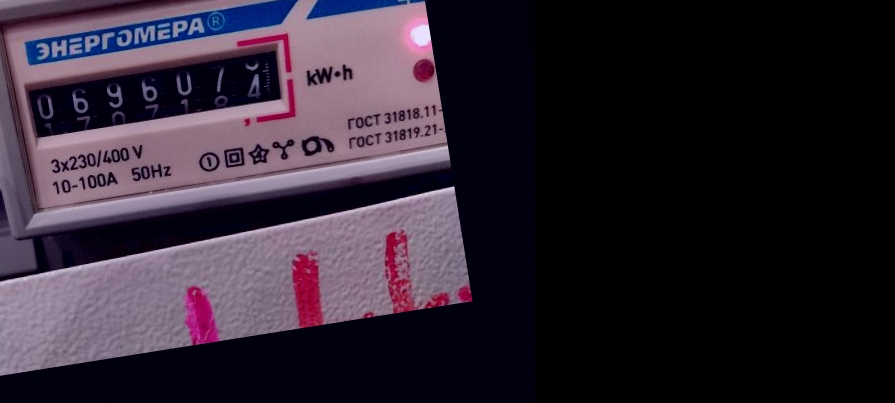0: (32, 89, 57, 122), (172, 66, 195, 98)
4: (240, 71, 264, 102)
6: (136, 72, 161, 106), (67, 84, 91, 116)
7: (206, 60, 229, 94)
9: (102, 78, 126, 110)
screen: (10, 25, 304, 161)
